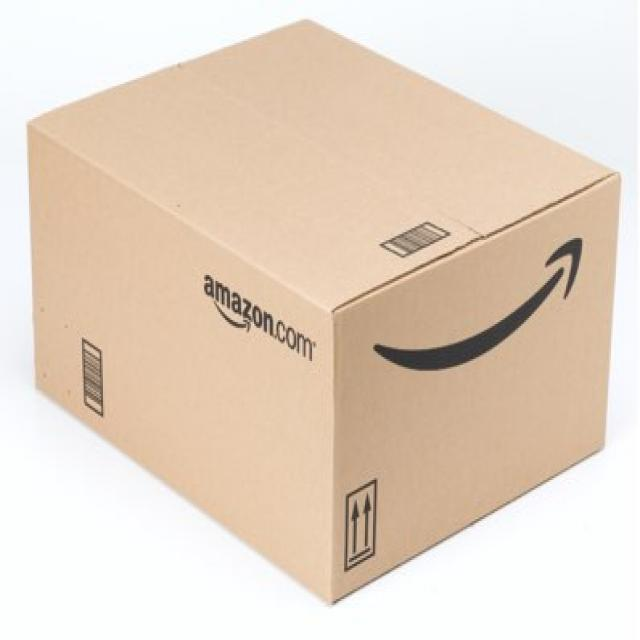-: (24, 20, 625, 609)
